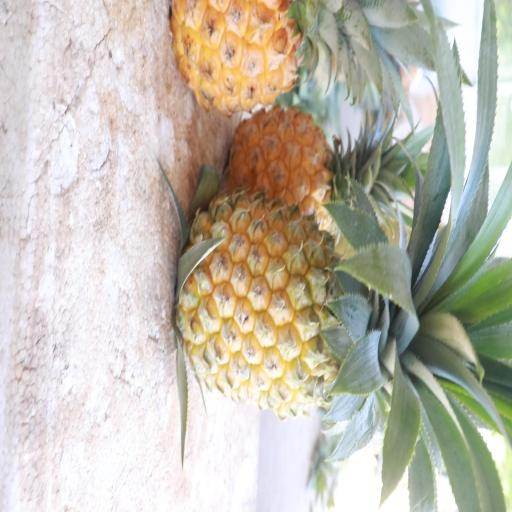Pineapple - v8 v1: (172, 185, 388, 423), (169, 0, 356, 125), (222, 98, 380, 244)
